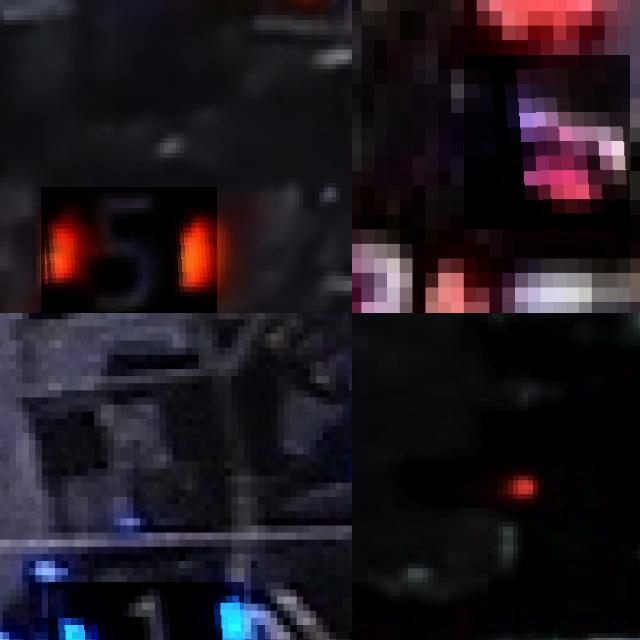B1: (48, 582, 244, 640)
R3: (464, 55, 630, 229), (352, 214, 476, 313)
R5: (40, 187, 217, 313)
